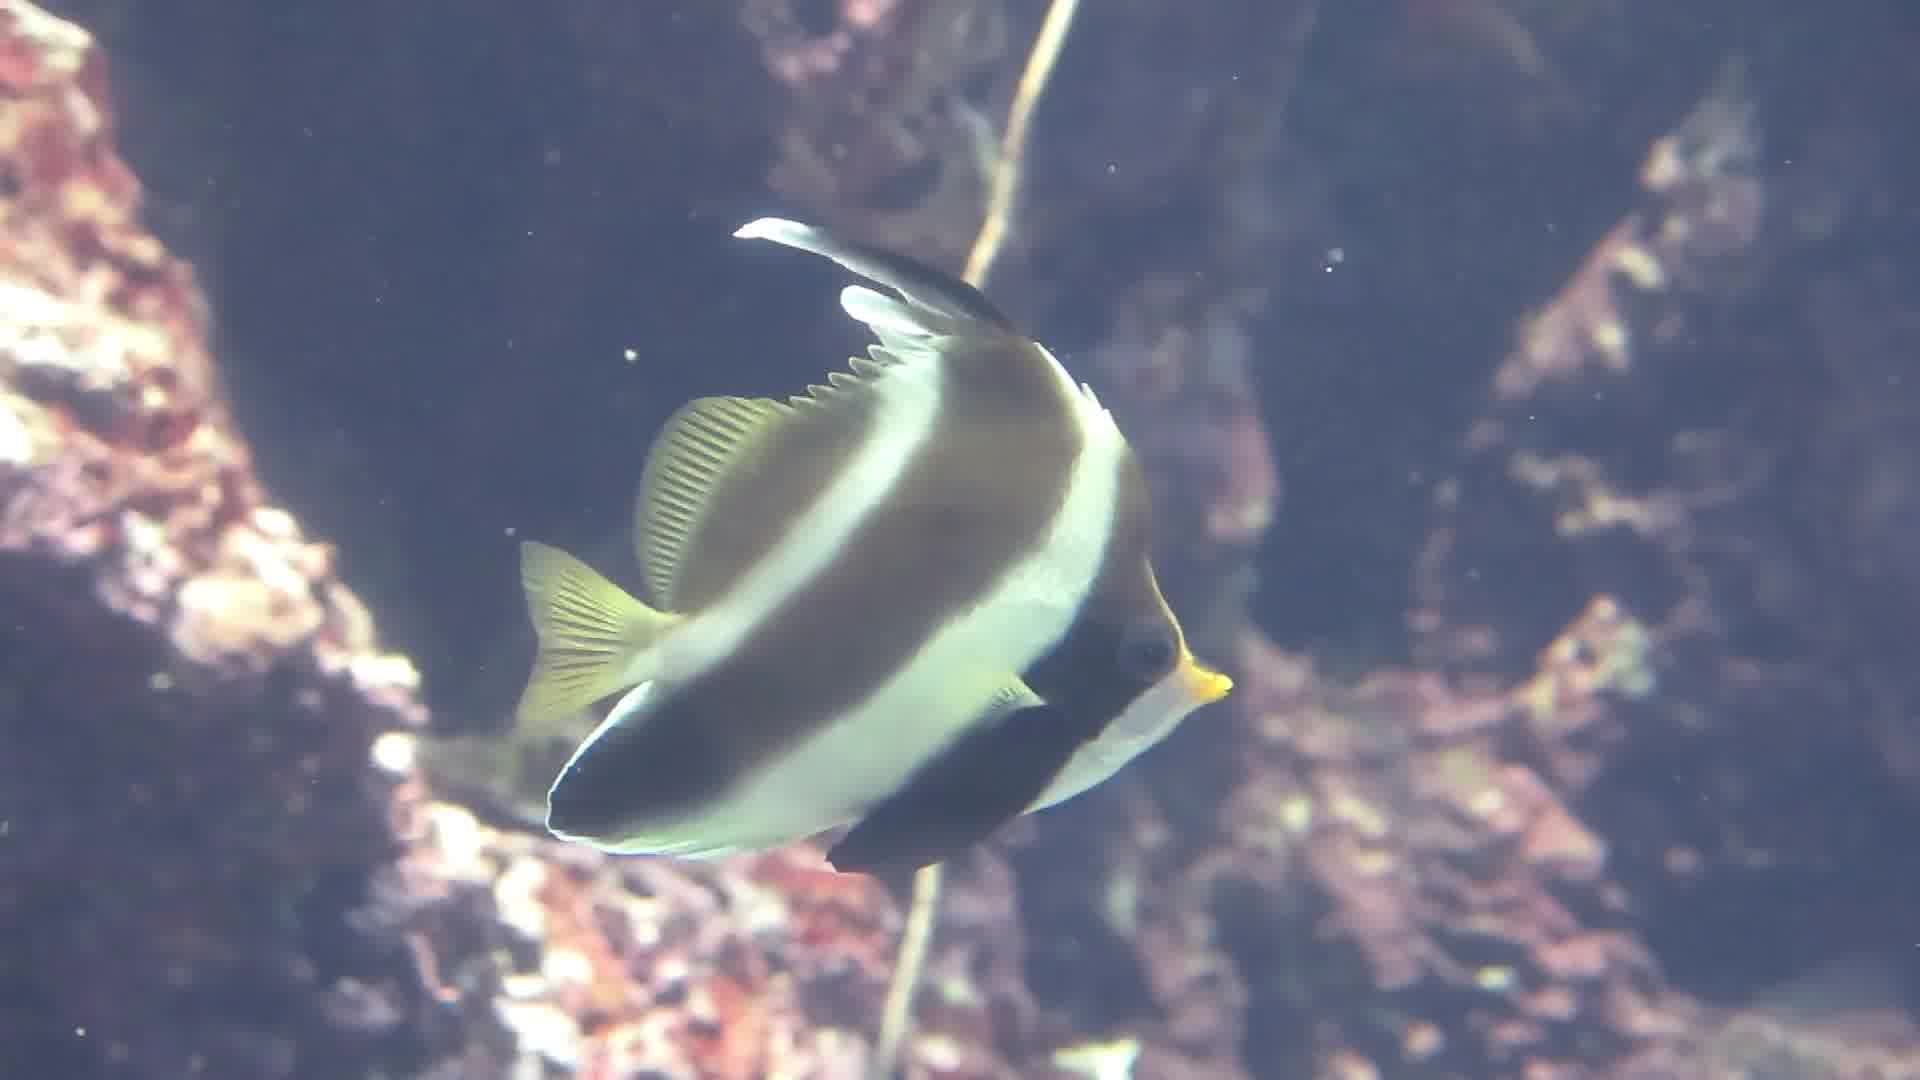Heniochus chrysostomus: (520, 200, 1274, 985)
